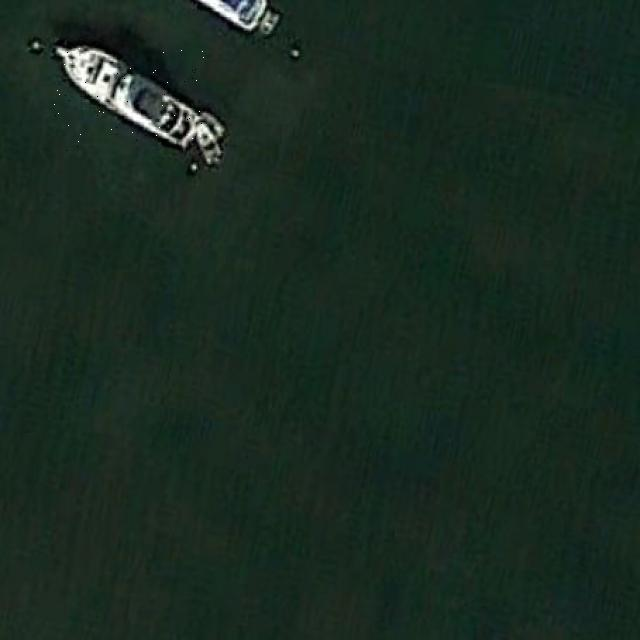boat: (52, 45, 206, 151)
